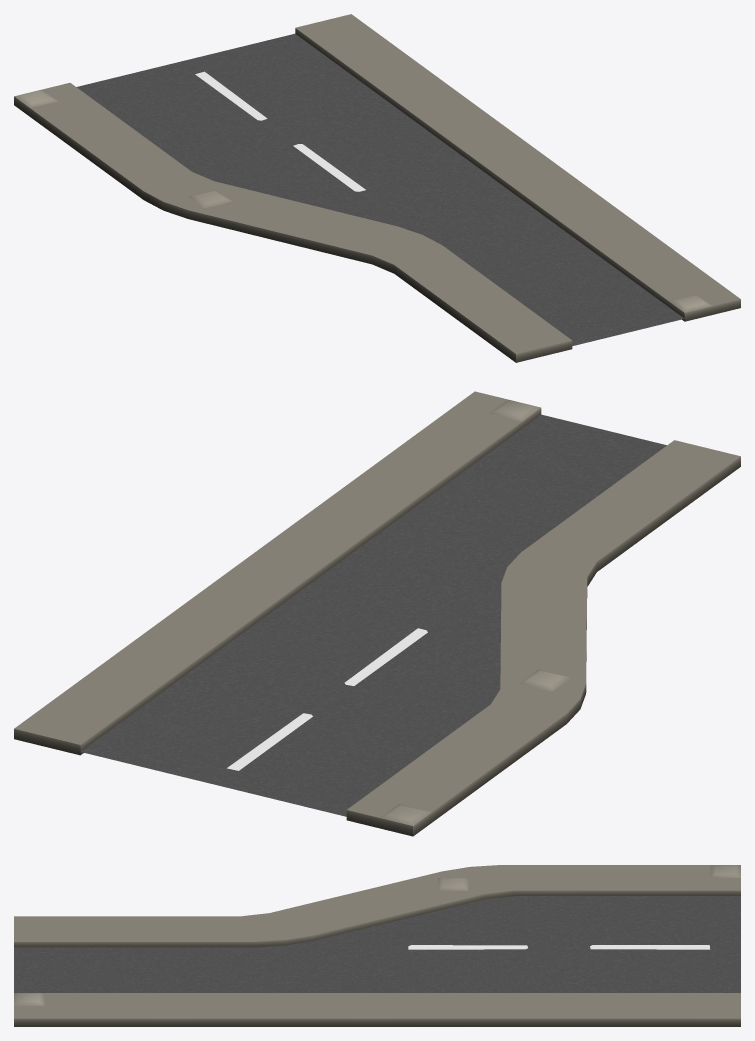
Rendered from Road7.fbx.
The picture shows the model from 3 angles, top to bottom: view 1: azimuth 30°, elevation 25°; view 2: azimuth 150°, elevation 25°; view 3: azimuth 270°, elevation 25°; orthographic projection. The views are drawn at different scales.
Parts seen in each view (by area): view 1: Road_2C; view 2: Road_2C; view 3: Road_2C.
Boxes of the visible parts, x1,y1,x2,y2 form: Road_2C: (14, 14, 740, 362); Road_2C: (14, 391, 740, 836); Road_2C: (14, 865, 740, 1026).
Size of the model in its own units: 22423 by 666 by 44847.
